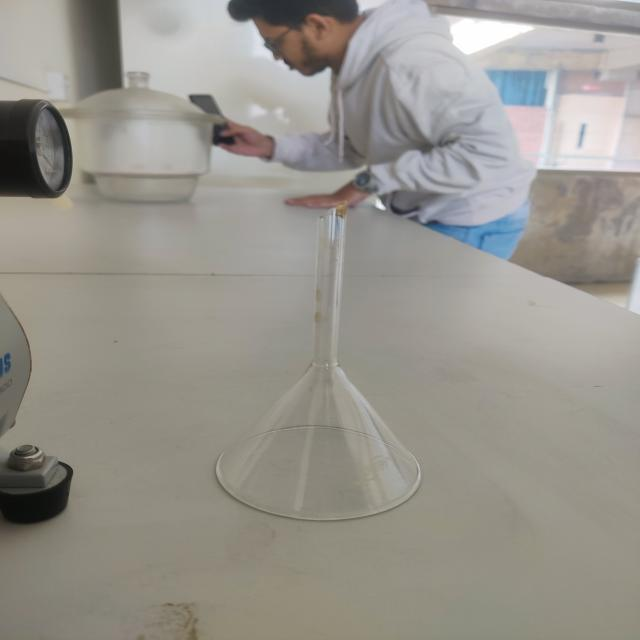Funnel: (176, 184, 484, 560)
